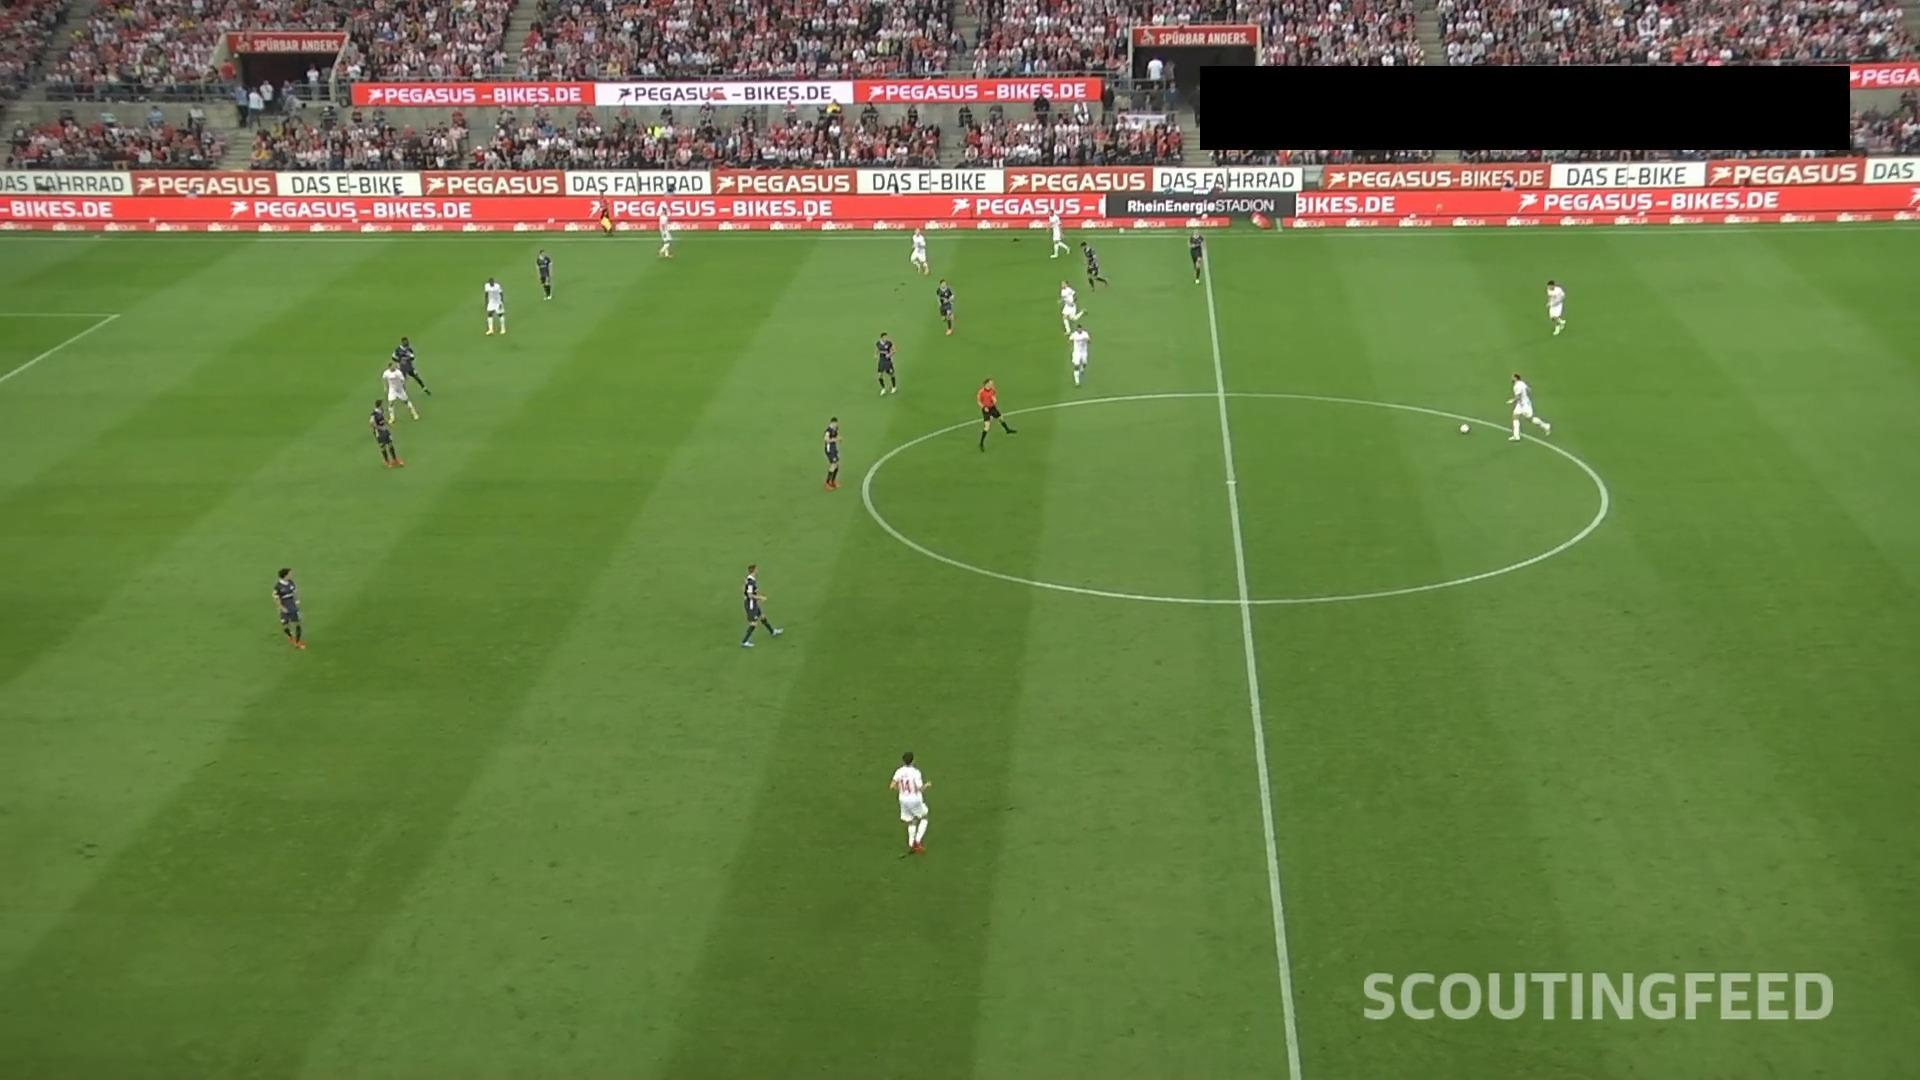ball: (1460, 423, 1472, 435)
